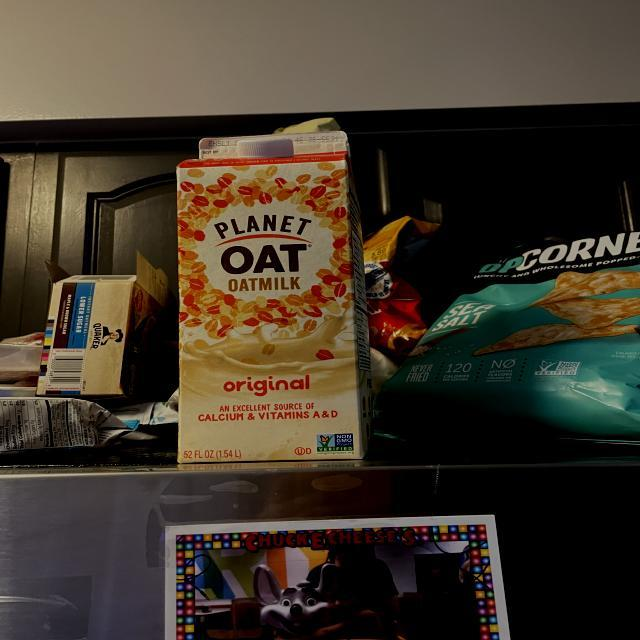Planet Oat Original: (175, 126, 382, 467)
